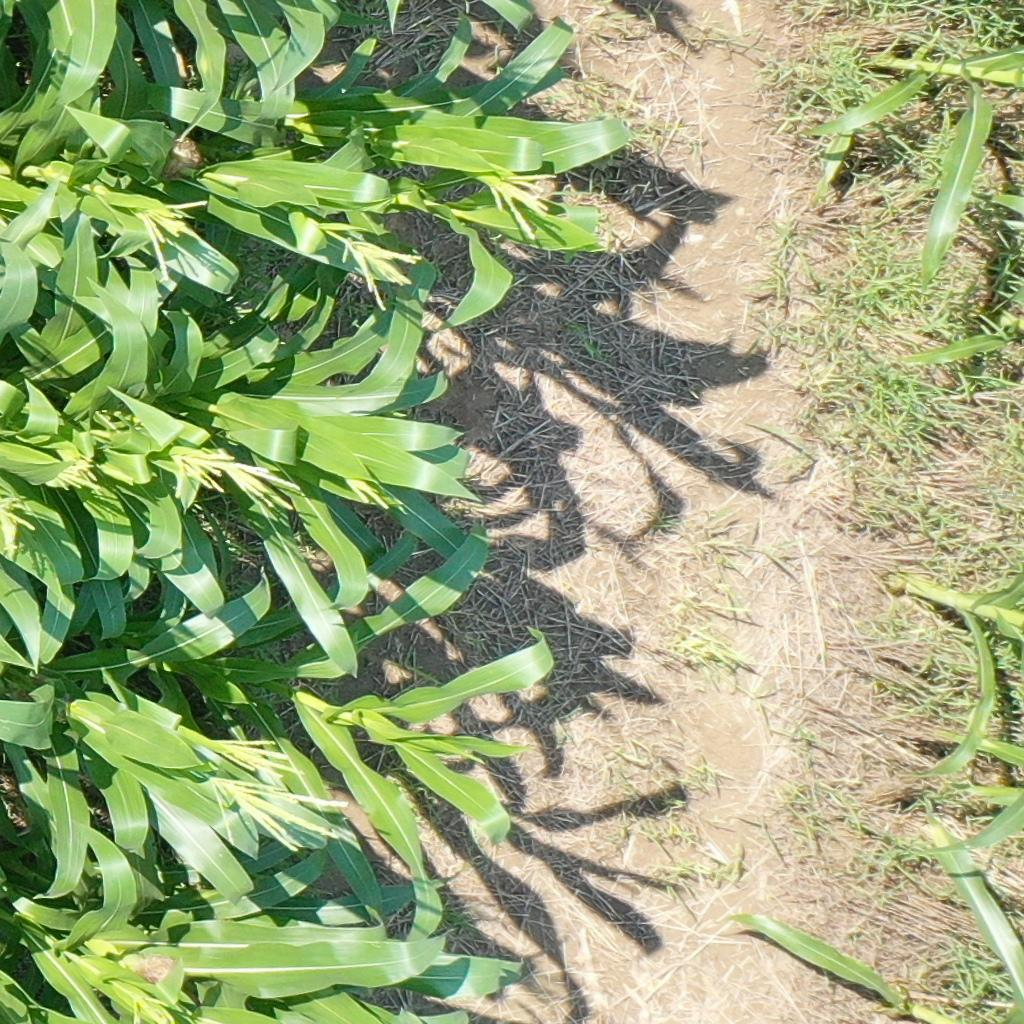Tassel: (202, 777, 355, 858), (338, 223, 424, 311), (133, 194, 206, 293), (222, 455, 307, 529), (478, 161, 558, 239), (209, 733, 300, 780), (167, 441, 233, 499), (46, 454, 108, 498), (124, 986, 180, 1024), (1, 491, 34, 555), (341, 472, 391, 514)
